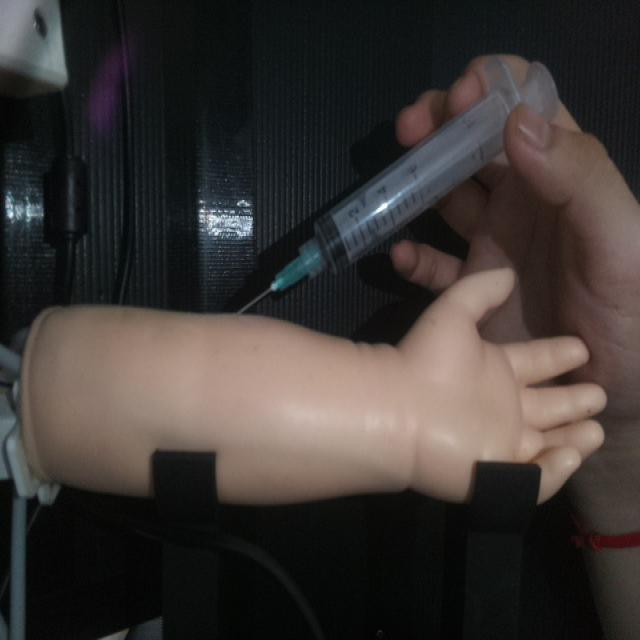Outside: (232, 52, 561, 316)
